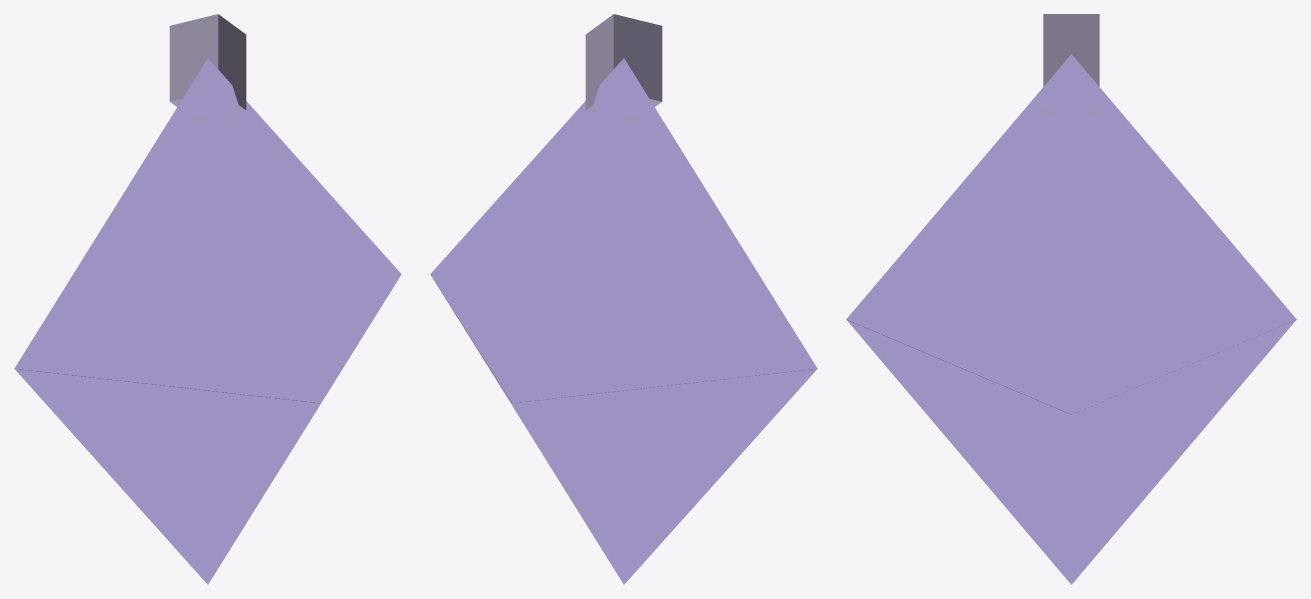
File: wisp.glb
3 views of the same model, side by side, from view 1: azimuth 30°, elevation 25°; view 2: azimuth 150°, elevation 25°; view 3: azimuth 270°, elevation 25° (orthographic).
Bounding box in the file's own units: 0.32 × 0.438 × 0.32.
